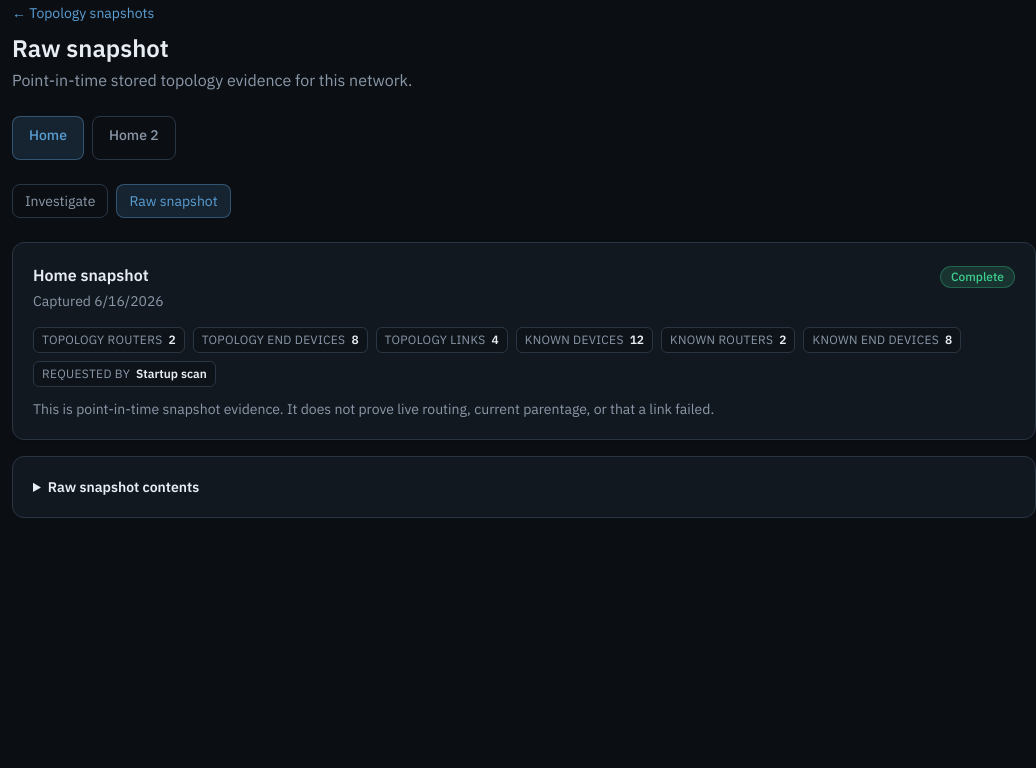
Test: TopologyPage › opens raw snapshot contents on activation
What coordinates should you click on to do the following:
click the heading "Raw snapshot contents"
I would click on:
 (124, 487)
Its box is [48,478,199,496].
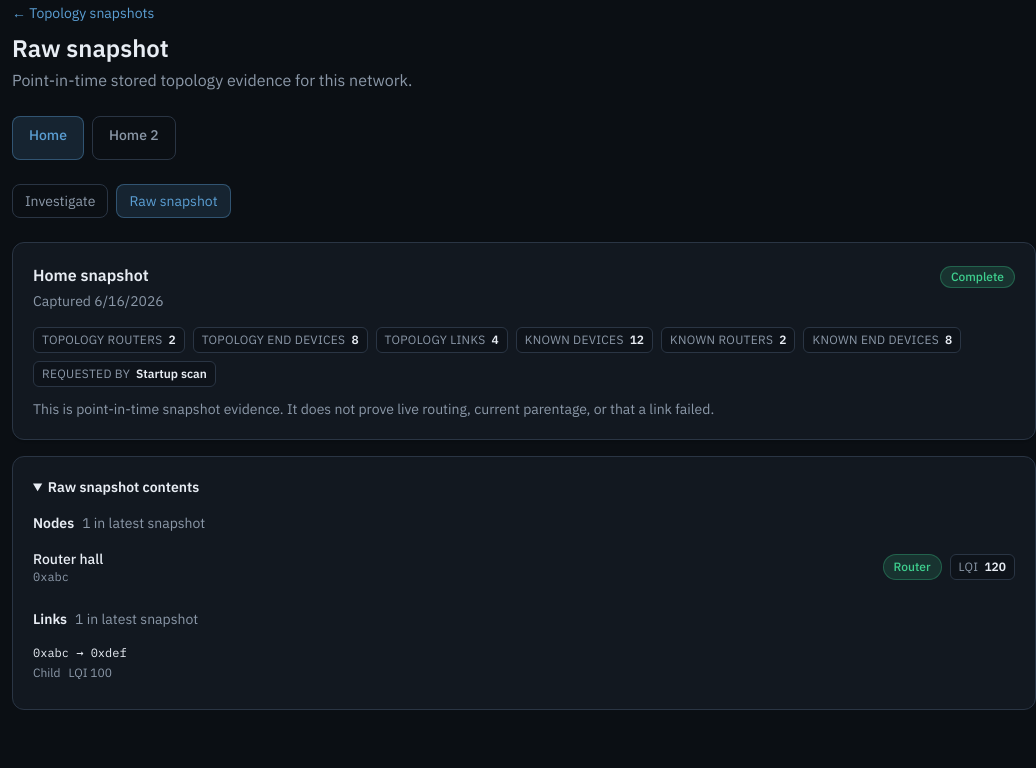
Expected: the text "Router hall" is shown, [33,549,103,569]
Expected: the text "0xabc → 0xdef" is shown, [33,645,127,660]
